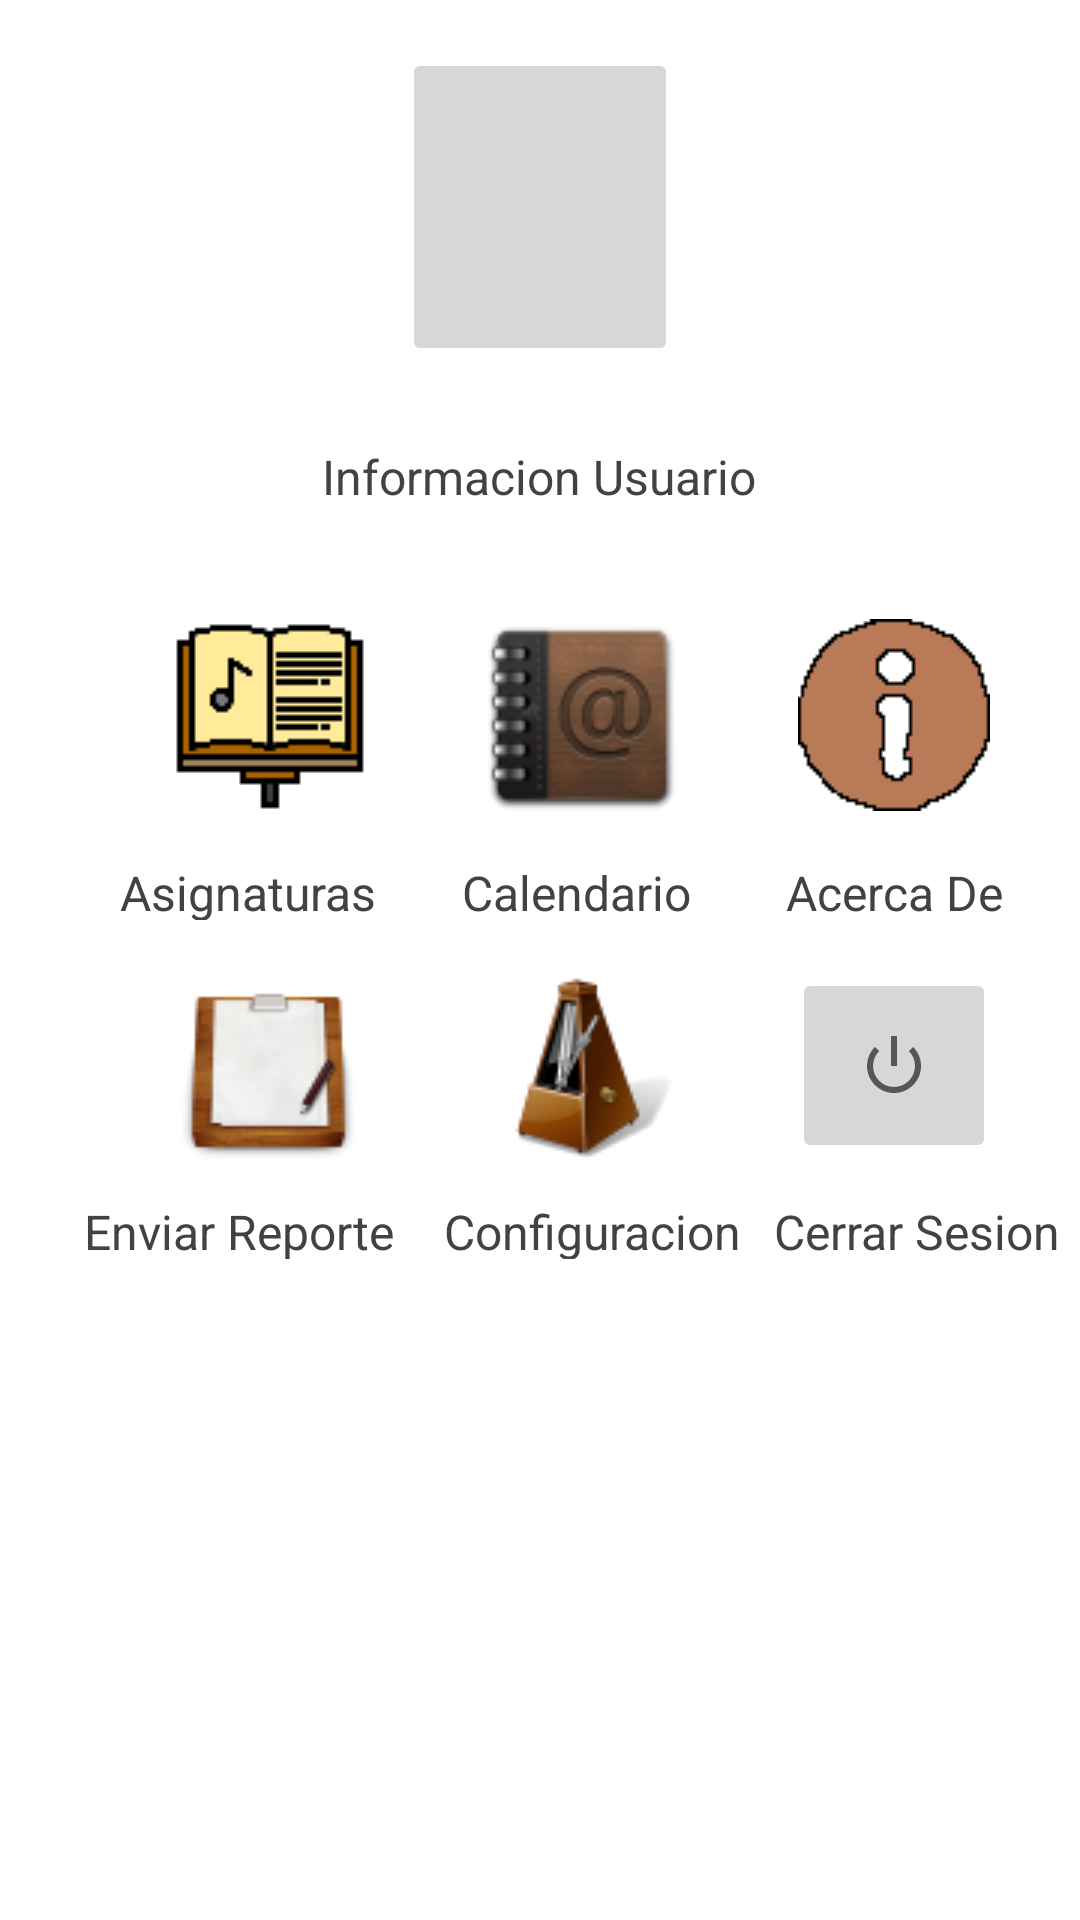

Icons on this 1080px×1920px Android screen, each with the point to tap as (x=x, y=y):
agenda: (x=581, y=718)
enviareporte: (x=269, y=1073)
lock power off: (x=894, y=1065)
metronomo: (x=589, y=1067)
partitura: (x=270, y=716)
senaldeinformacion: (x=894, y=715)
